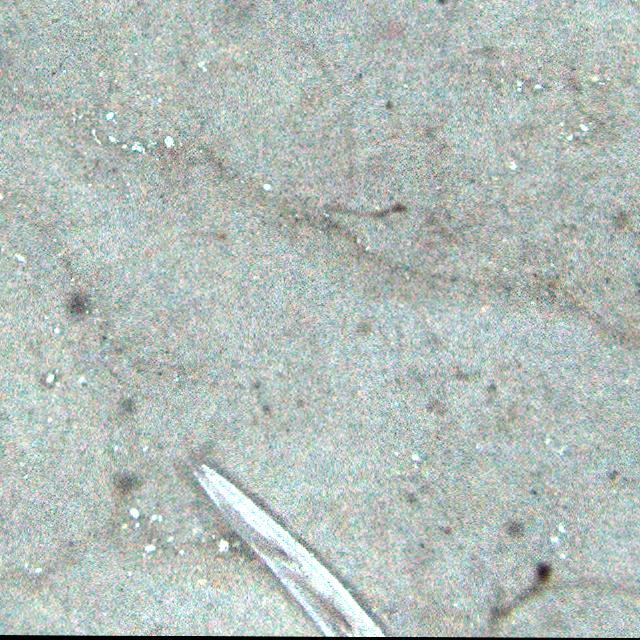skate: (178, 452, 411, 636)
